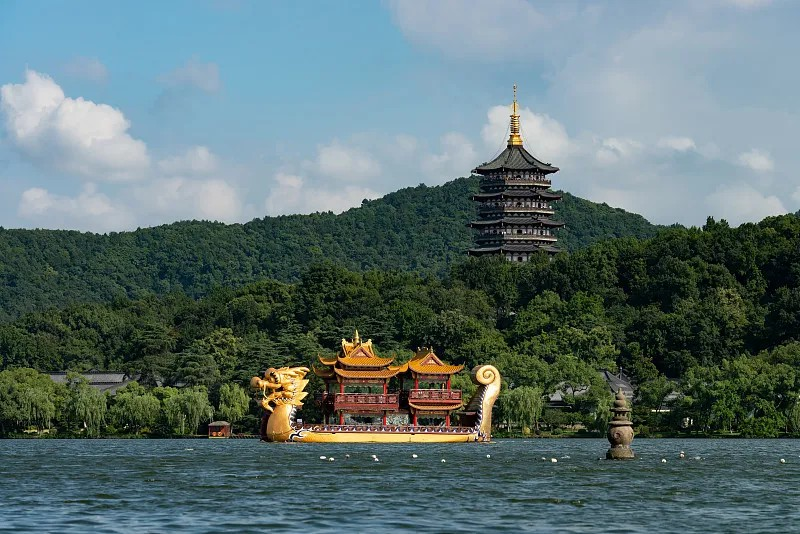Leifeng: (468, 83, 567, 266)
